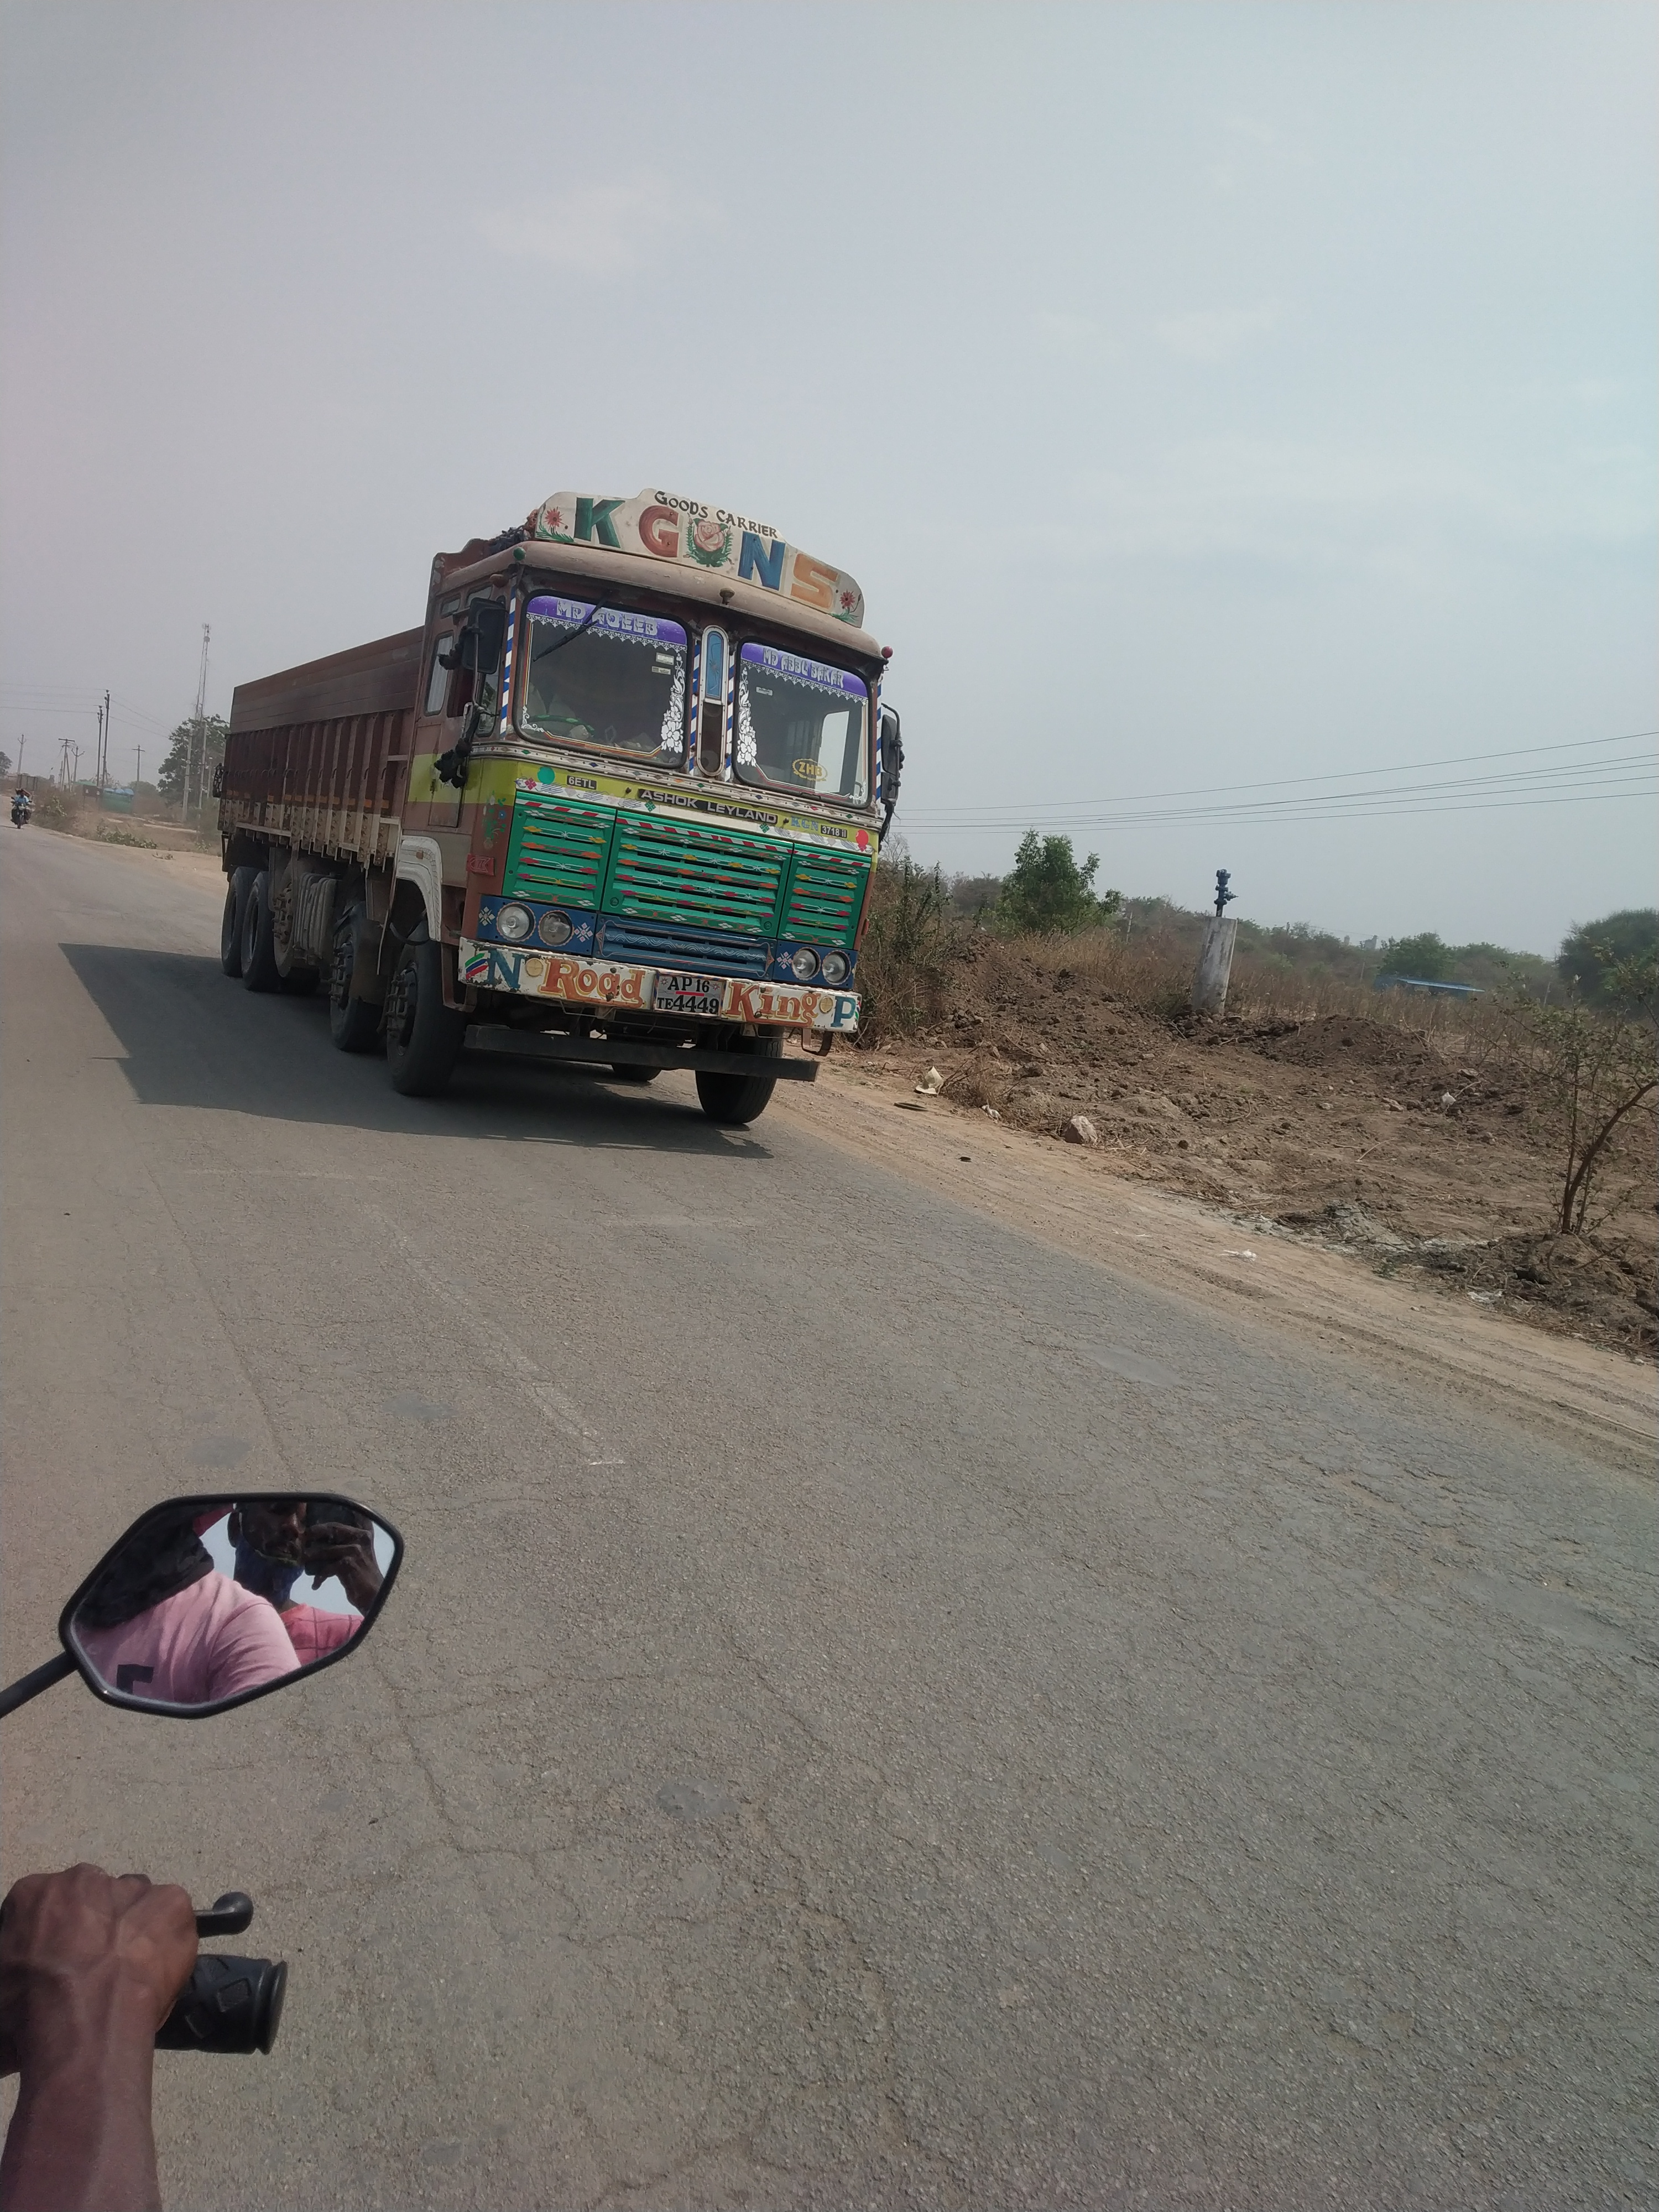truck: (207, 484, 906, 1127)
